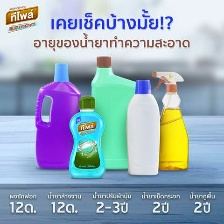cleaning_solution: (87, 55, 146, 173), (31, 60, 90, 172), (147, 69, 193, 173), (123, 77, 162, 178), (66, 93, 107, 181)
